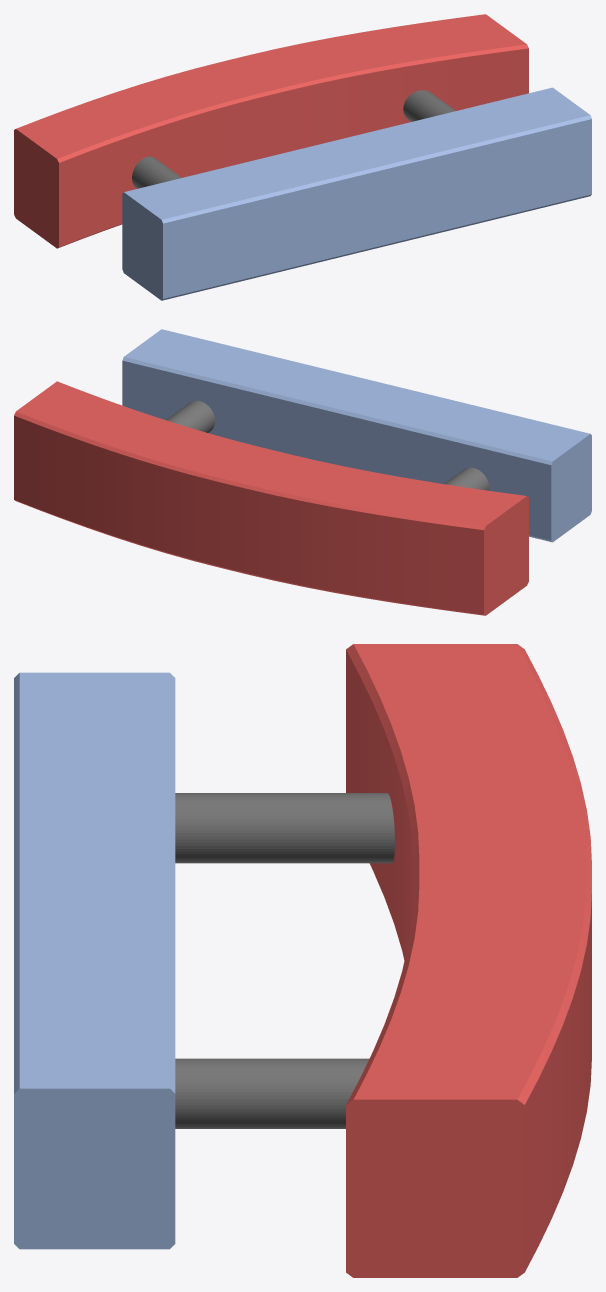
The model's file is arkanoid.fbx.
3 renders of one model, top to bottom at view 1: azimuth 30°, elevation 25°; view 2: azimuth 150°, elevation 25°; view 3: azimuth 270°, elevation 25°, orthographic. The views are drawn at different scales.
Visible parts, largest first — view 1: Cube; view 2: Cube; view 3: Cube.
Boxes of the visible parts, x1,y1,x2,y2 form: Cube: [14, 14, 591, 300]; Cube: [14, 329, 591, 615]; Cube: [14, 644, 591, 1277].
Bounding box in the file's own units: 600 × 109 × 322.
